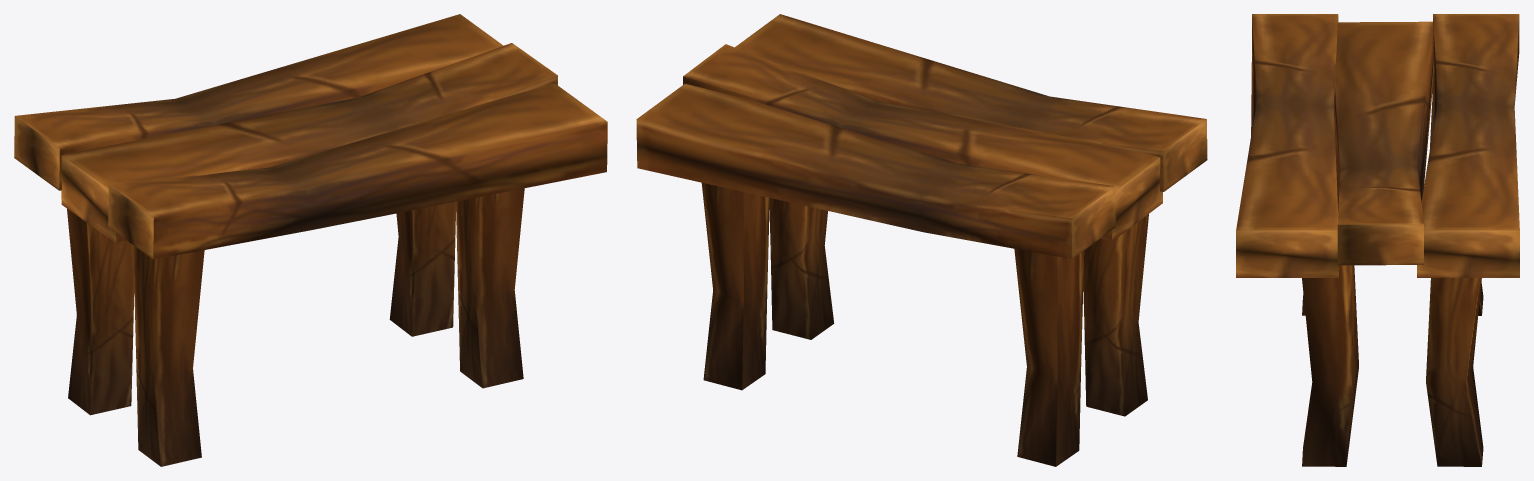
File: table.fbx
3 renders of one model, left to right at view 1: azimuth 30°, elevation 25°; view 2: azimuth 150°, elevation 25°; view 3: azimuth 270°, elevation 25°, orthographic. The views are drawn at different scales.
Parts seen in each view (by area): view 1: table; view 2: table; view 3: table.
Boxes of the visible parts, x1=… form: table: x1=14, y1=14, x2=607, y2=466; table: x1=636, y1=14, x2=1207, y2=466; table: x1=1236, y1=14, x2=1519, y2=466.
Bounding box in the file's own units: 1.63 × 0.9599 × 0.9258.
